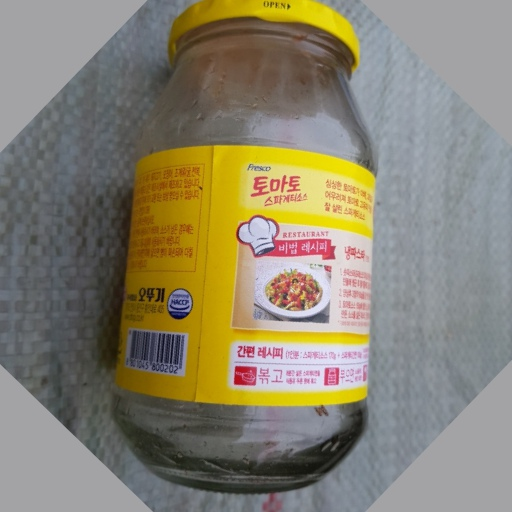Glass_5: (111, 2, 376, 494)
